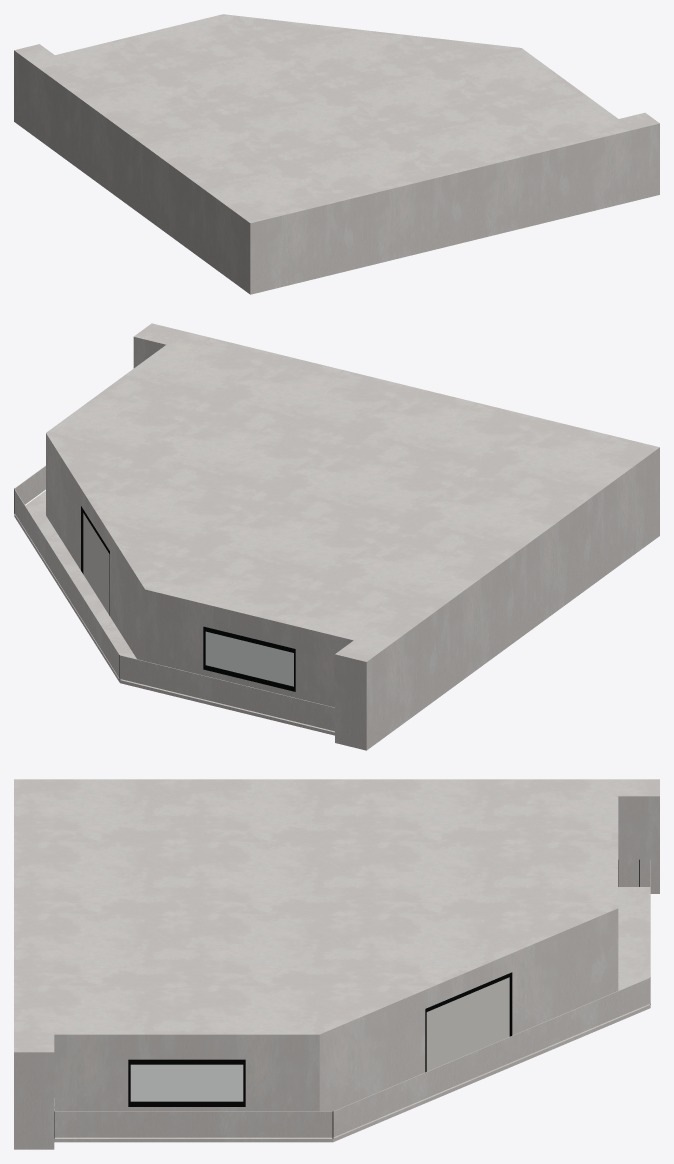
Rendered from Piso.fbx.
The picture shows the model from 3 angles, top to bottom: view 1: azimuth 30°, elevation 25°; view 2: azimuth 150°, elevation 25°; view 3: azimuth 270°, elevation 25°; orthographic projection. The views are drawn at different scales.
Visible parts, largest first — view 1: building_019.001; view 2: building_019.001; view 3: building_019.001.
Part boxes in pixels (x1,y1,x2,y2): building_019.001: [14, 14, 659, 294]; building_019.001: [14, 323, 659, 750]; building_019.001: [14, 779, 659, 1149].
Size of the model in its own units: 3000 by 500 by 3000.
Materials: 2 (2 with a texture image).
